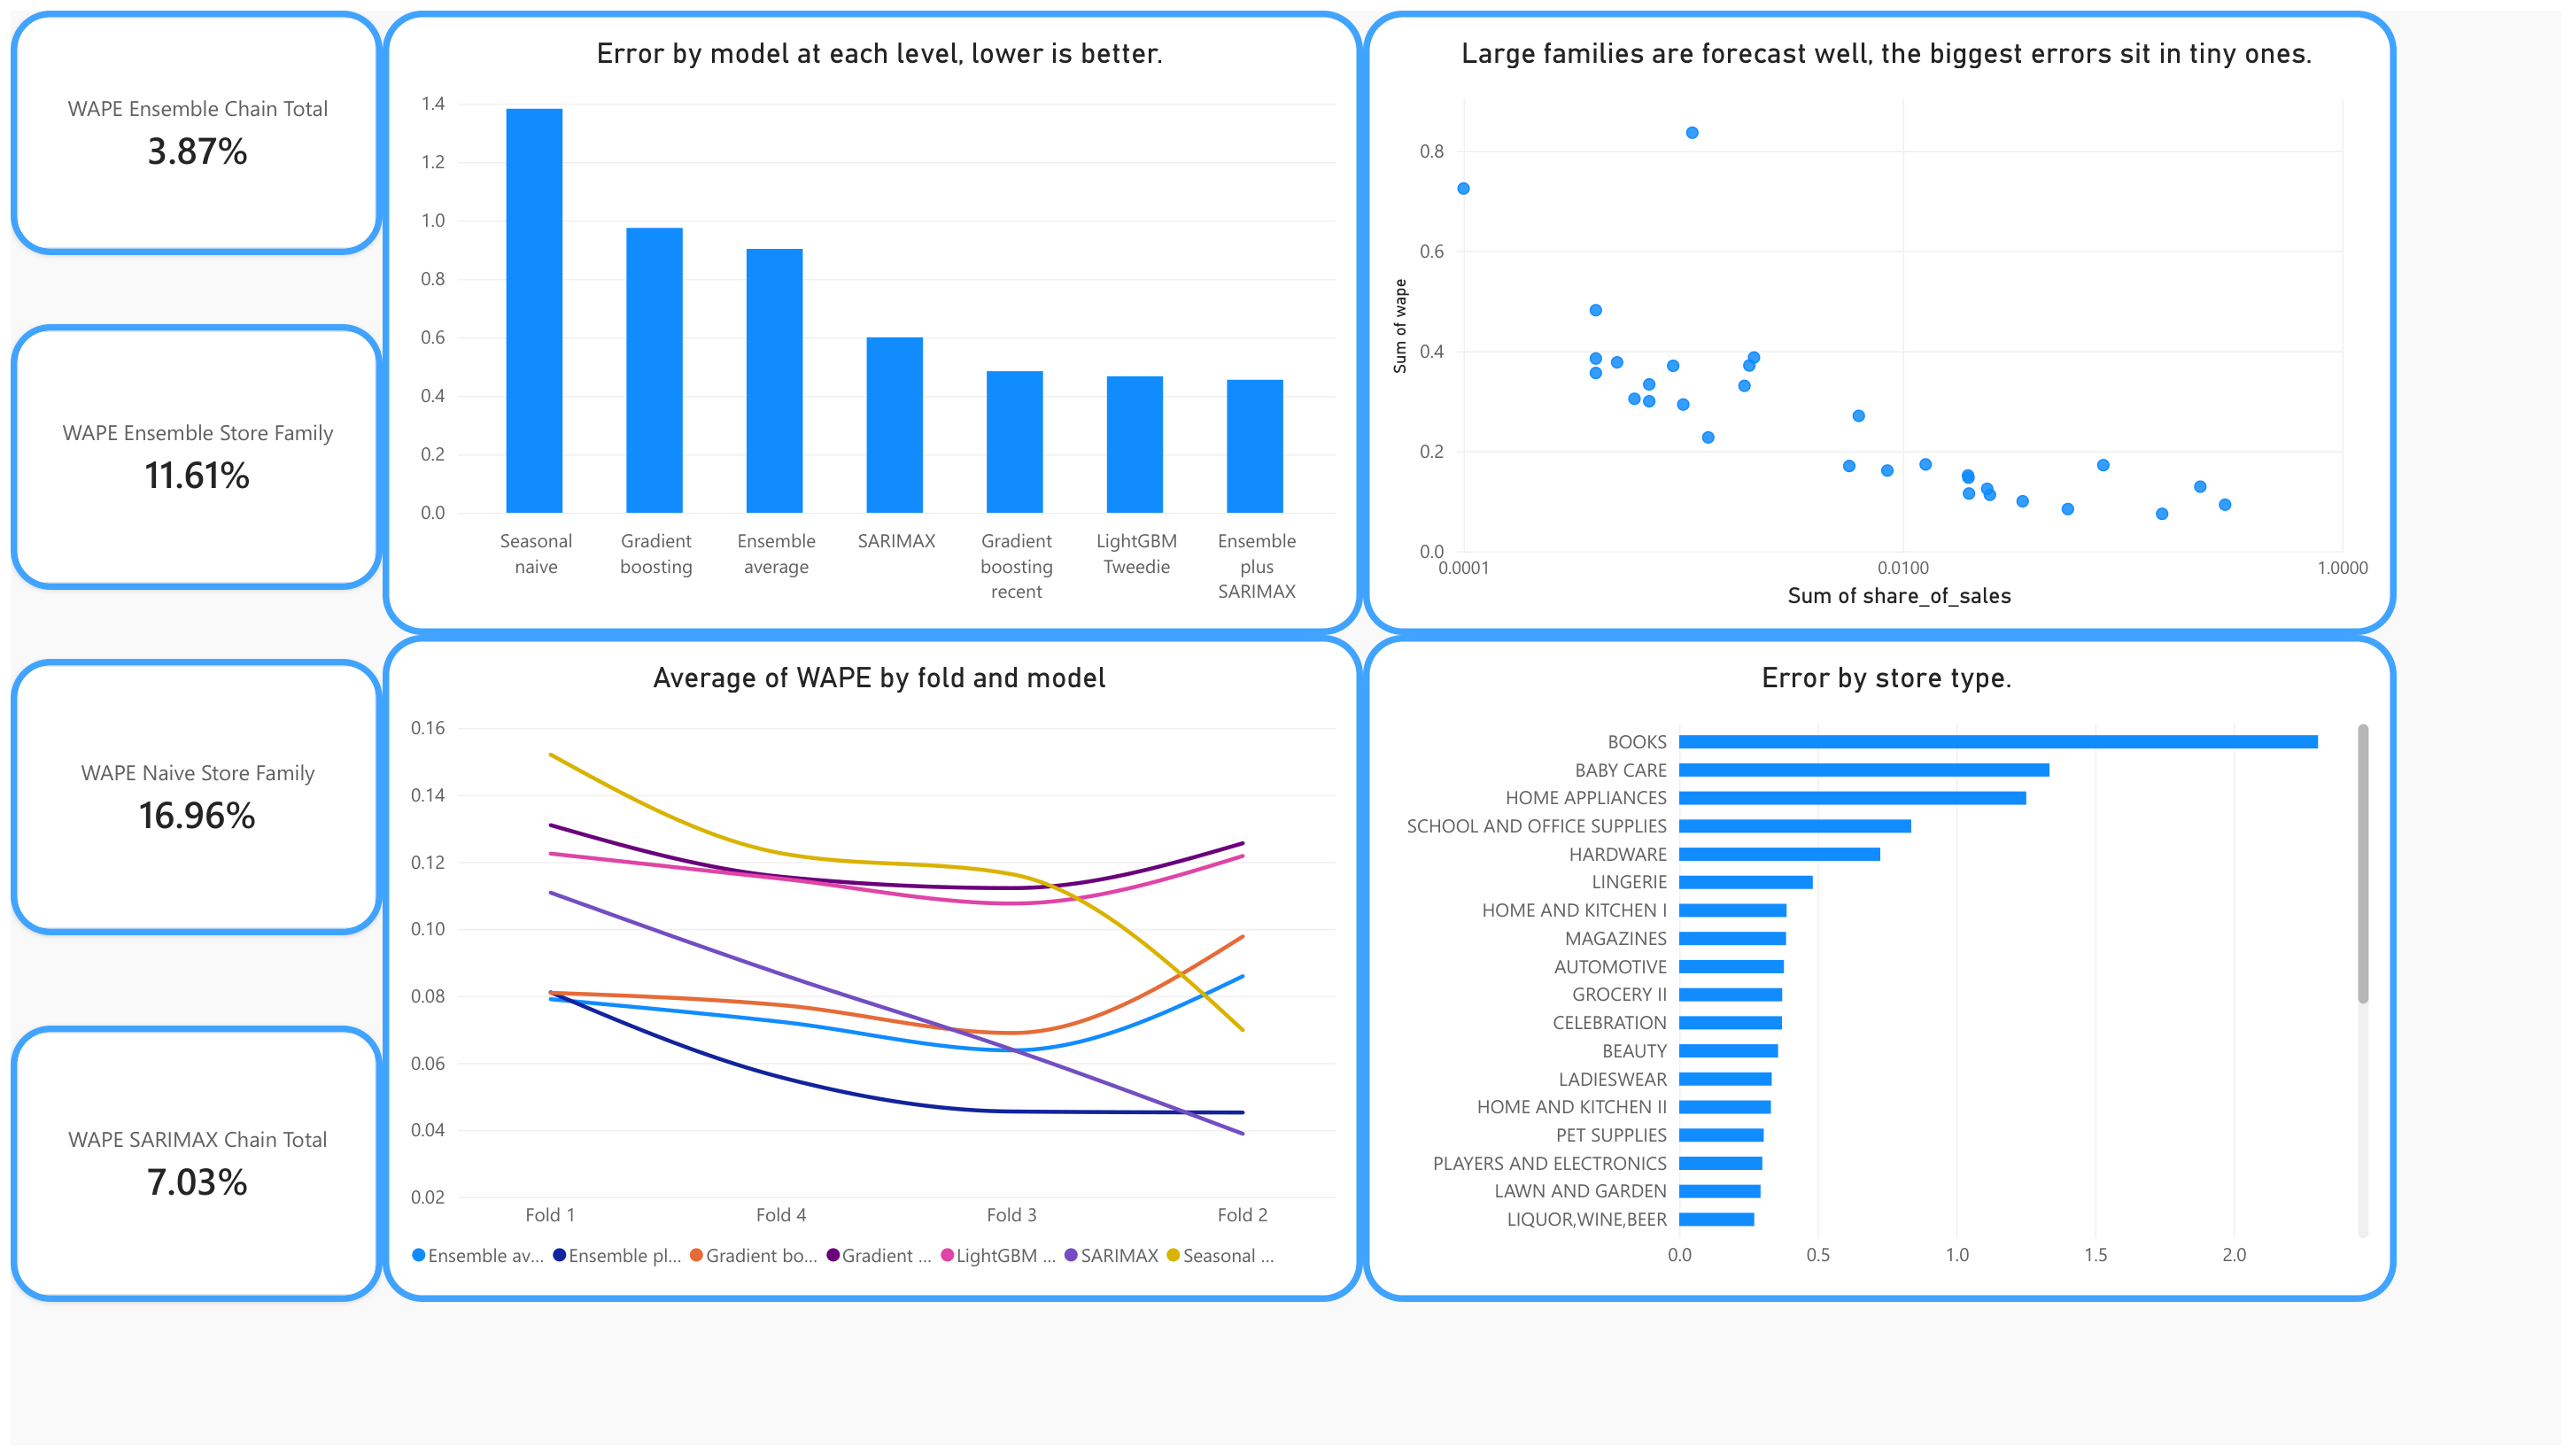

This screenshot's page, from the dashboard's own definition file:
{"tool":"powerbi","page":{"name":"Page 4","canvas":[1920,1080],"ordinal":3},"visuals":[{"type":"cardVisual","fields":{"Data":["Measures_Table.WAPE Ensemble Chain Total"]},"box":[0,0,280,184],"z":0},{"type":"cardVisual","fields":{"Data":["Measures_Table.WAPE Ensemble Store Family"]},"box":[0,236,280,200],"z":1},{"type":"cardVisual","fields":{"Data":["Measures_Table.WAPE Naive Store Family"]},"box":[0,488,280,208],"z":2},{"type":"cardVisual","fields":{"Data":["Measures_Table.WAPE SARIMAX Chain Total"]},"box":[0,764,280,208],"z":3},{"type":"clusteredColumnChart","title":"Error by model at each level, lower is better.","fields":{"Category":["powerbi_model_comparison.model"],"Y":["Sum(powerbi_model_comparison.WAPE)"]},"box":[280,0,738,470],"z":4},{"type":"lineChart","fields":{"Category":["powerbi_model_comparison.fold"],"Series":["powerbi_model_comparison.model"],"Y":["Avg(powerbi_model_comparison.WAPE)"]},"box":[280,470,738,502],"z":5},{"type":"scatterChart","title":"Large families are forecast well, the biggest errors sit in tiny ones.","fields":{"Category":["powerbi_accuracy_by_group.group"],"X":["Sum(powerbi_accuracy_by_group.share_of_sales)"],"Y":["Sum(powerbi_accuracy_by_group.wape)"]},"box":[1018,0,778,470],"z":6},{"type":"clusteredBarChart","title":"Error by store type.","fields":{"Category":["powerbi_accuracy_by_group.group"],"Y":["Sum(powerbi_accuracy_by_group.wape)"]},"box":[1018,470,778,502],"z":7}]}

Visuals, with their boxes in screenshot pixels (x1, y1, x2, y2), scaled from the page's 1920x1080 canvas onto the 2572x1456 screenshot:
cardVisual - Measures_Table.WAPE Ensemble Chain Total: bbox=(0, 0, 376, 248)
cardVisual - Measures_Table.WAPE Ensemble Store Family: bbox=(0, 318, 376, 588)
cardVisual - Measures_Table.WAPE Naive Store Family: bbox=(0, 658, 376, 938)
cardVisual - Measures_Table.WAPE SARIMAX Chain Total: bbox=(0, 1030, 376, 1311)
"Error by model at each level, lower is better." clusteredColumnChart: bbox=(376, 0, 1364, 633)
lineChart - powerbi_model_comparison.fold x powerbi_model_comparison.model: bbox=(376, 633, 1364, 1311)
"Large families are forecast well, the biggest errors sit in tiny ones." scatterChart: bbox=(1364, 0, 2405, 633)
"Error by store type." clusteredBarChart: bbox=(1364, 633, 2405, 1311)
